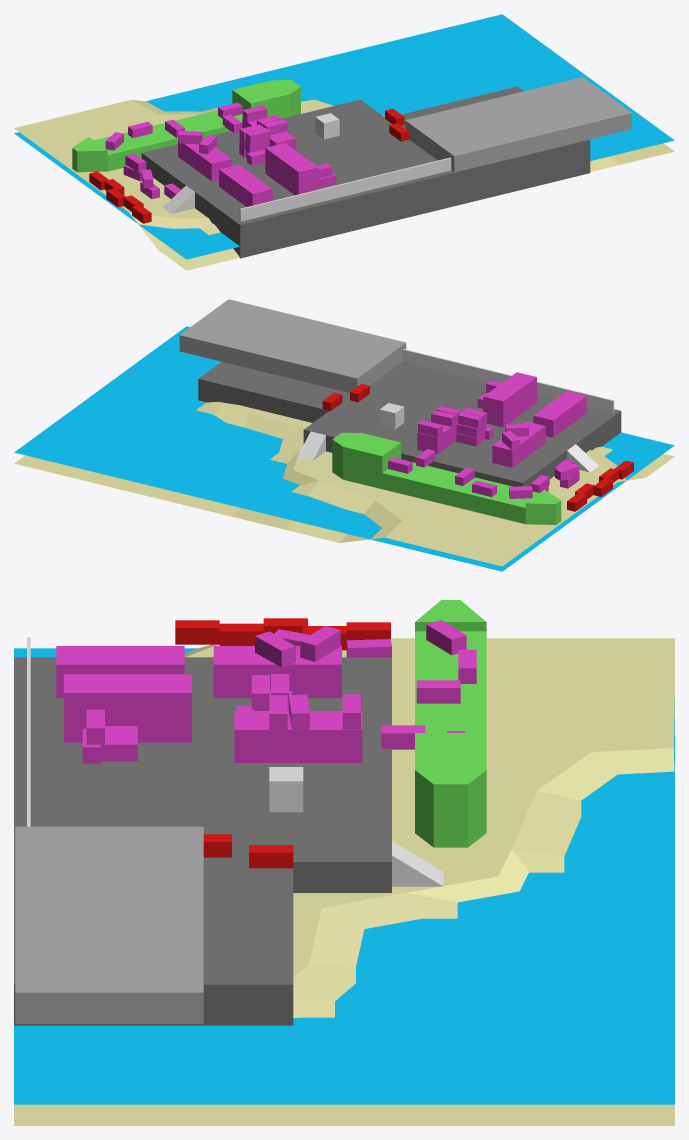
File: 3dreferance.fbx
3 renders of one model, top to bottom at view 1: azimuth 30°, elevation 25°; view 2: azimuth 150°, elevation 25°; view 3: azimuth 270°, elevation 25°, orthographic. The views are drawn at different scales.
Visible parts, largest first — view 1: concrete base, Water, concrete base2, Sand, ship, Cube, active container2.004, active container2.003, active container2.002, slope, Cube.003, active container2.016; view 2: Water, Sand, concrete base, concrete base2, ship, Cube, active container2.004, active container2.003, active container2.002, active container2.016, slope.001, Cube.003 (+1 smaller); view 3: Water, Sand, concrete base, concrete base2, ship, active container2.004, active container2.016, active container2.002, active container2.003, Cube.003, slope.001, container edge2.005 (+9 smaller).
Boxes of the visible parts, left/top/right/bottom form: concrete base: left=141, top=86, right=590, bottom=258; Water: left=14, top=14, right=674, bottom=259; concrete base2: left=405, top=77, right=631, bottom=172; Sand: left=14, top=99, right=674, bottom=270; ship: left=72, top=80, right=300, bottom=172; Cube: left=239, top=157, right=451, bottom=221; active container2.004: left=265, top=143, right=318, bottom=195; active container2.003: left=219, top=164, right=272, bottom=206; active container2.002: left=178, top=138, right=231, bottom=181; slope: left=163, top=185, right=194, bottom=213; Cube.003: left=315, top=113, right=339, bottom=139; active container2.016: left=242, top=118, right=295, bottom=150; Water: left=14, top=326, right=674, bottom=571; Sand: left=14, top=402, right=674, bottom=566; concrete base: left=198, top=361, right=621, bottom=486; concrete base2: left=179, top=299, right=406, bottom=392; ship: left=332, top=432, right=561, bottom=524; Cube: left=402, top=349, right=614, bottom=412; active container2.004: left=483, top=372, right=536, bottom=427; active container2.003: left=533, top=391, right=586, bottom=437; active container2.002: left=492, top=421, right=545, bottom=467; active container2.016: left=417, top=408, right=462, bottom=454; slope.001: left=297, top=431, right=325, bottom=461; Cube.003: left=379, top=403, right=404, bottom=429; Water: left=14, top=648, right=674, bottom=1104; Sand: left=14, top=638, right=674, bottom=1125; concrete base: left=14, top=657, right=391, bottom=1025; concrete base2: left=15, top=826, right=203, bottom=1023; ship: left=415, top=600, right=486, bottom=847; active container2.004: left=64, top=674, right=191, bottom=742; active container2.016: left=234, top=711, right=362, bottom=762; active container2.002: left=213, top=646, right=341, bottom=697; active container2.003: left=56, top=646, right=184, bottom=697; Cube.003: left=269, top=767, right=303, bottom=812; slope.001: left=392, top=841, right=443, bottom=886; container edge2.005: left=175, top=620, right=219, bottom=644.
Size of the model in its own units: 31708 by 3658 by 19268.
